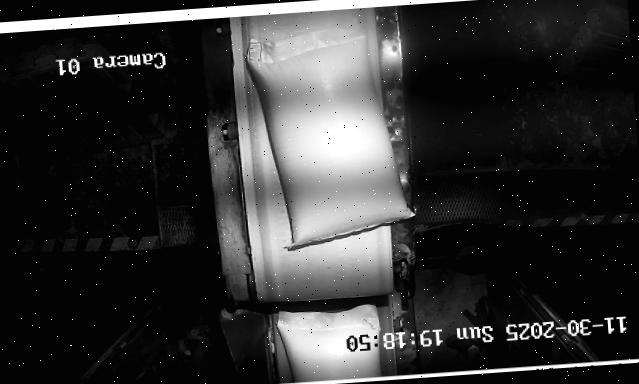bag: (243, 29, 416, 251), (274, 296, 380, 384)
